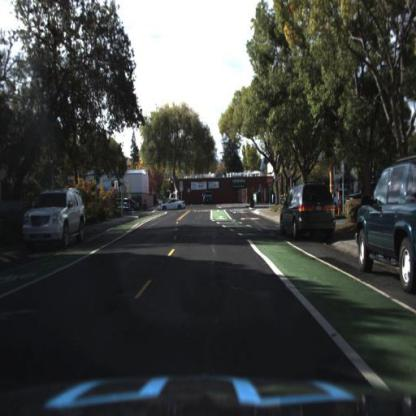car: (355, 157, 416, 297), (21, 187, 87, 253), (278, 177, 338, 247), (160, 197, 189, 214), (118, 197, 144, 215), (159, 200, 185, 215), (201, 191, 215, 212), (203, 190, 217, 207)
